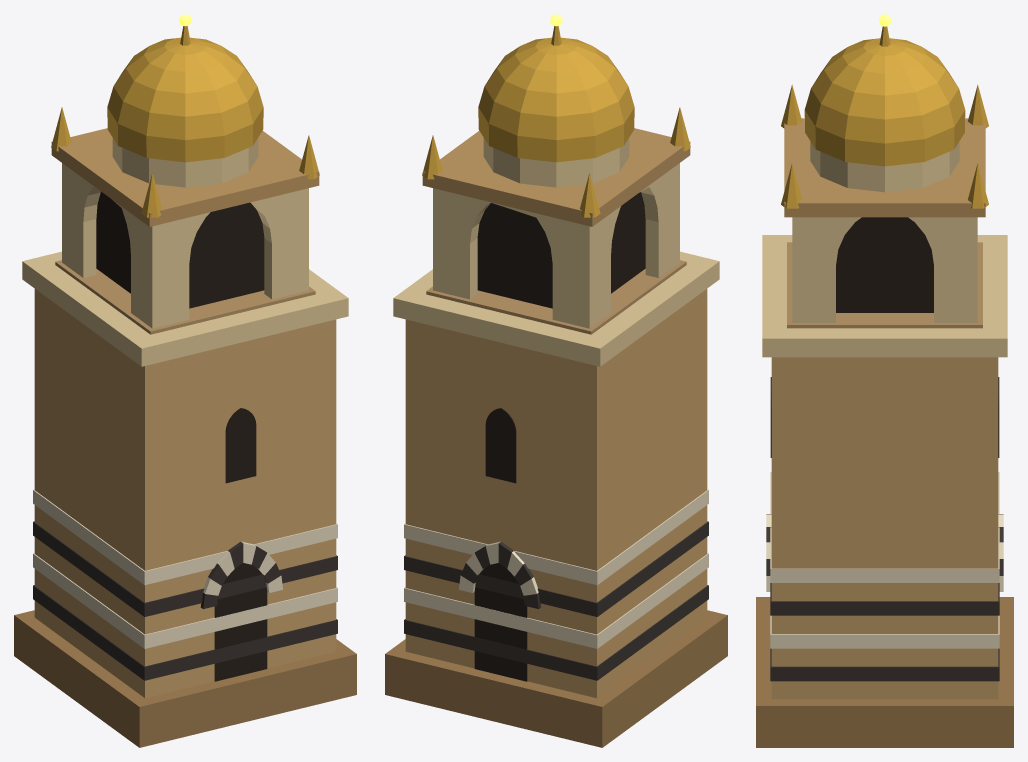
File: desert_tower_dome.glb
3 views of the same model, side by side, from view 1: azimuth 30°, elevation 25°; view 2: azimuth 150°, elevation 25°; view 3: azimuth 270°, elevation 25° (orthographic). The views are drawn at different scales.
Parts seen in each view (by area): view 1: desert_tower_dome; view 2: desert_tower_dome; view 3: desert_tower_dome.
Boxes of the visible parts, x1,y1,x2,y2 form: desert_tower_dome: (14,14,356,747); desert_tower_dome: (385,14,727,747); desert_tower_dome: (756,14,1013,747).
Size of the model in its own units: 5 by 14.54 by 5.
